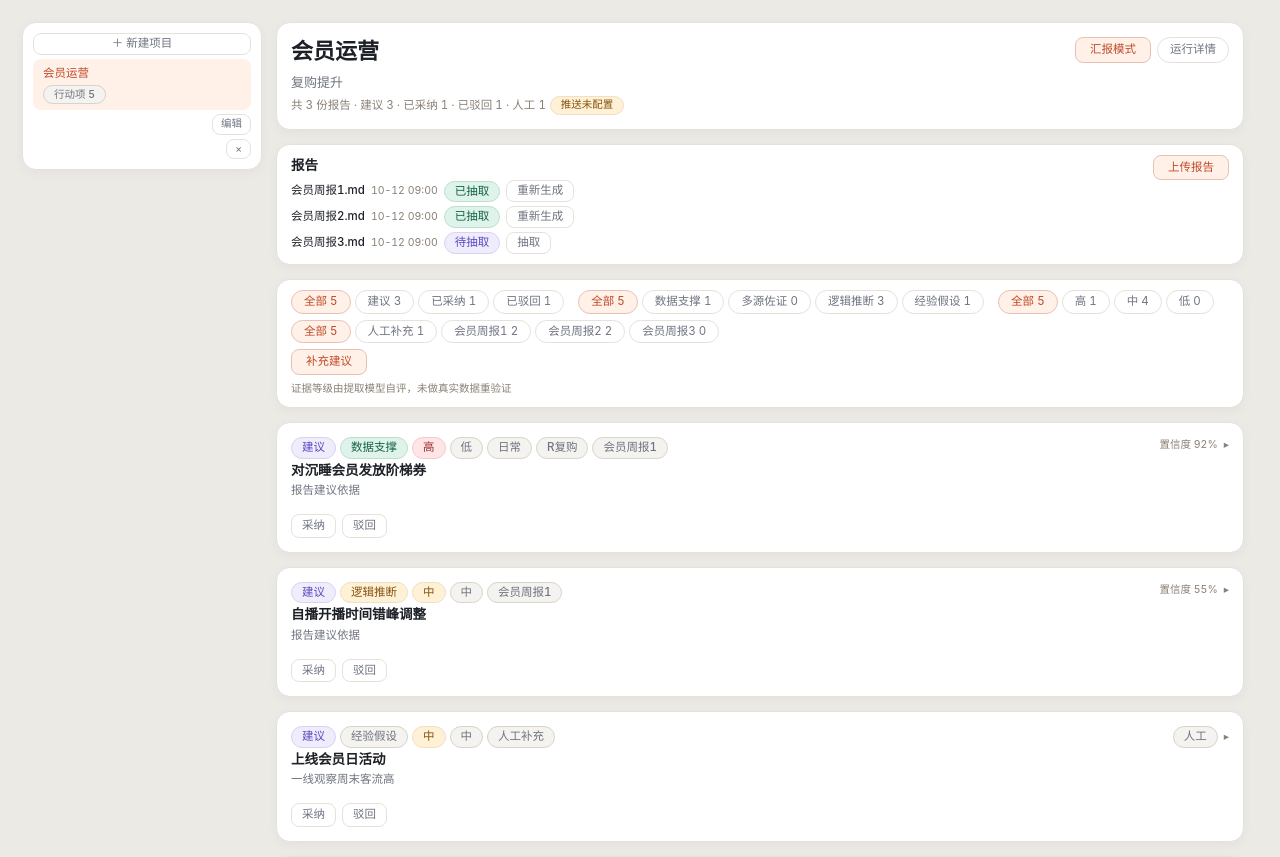
Test case: 采纳：乐观更新 + PATCH via=board + 留痕
The width and height of the screenshot is (1280, 857).
Click the 1st button "采纳" at (314, 526), box [291,514,336,538]
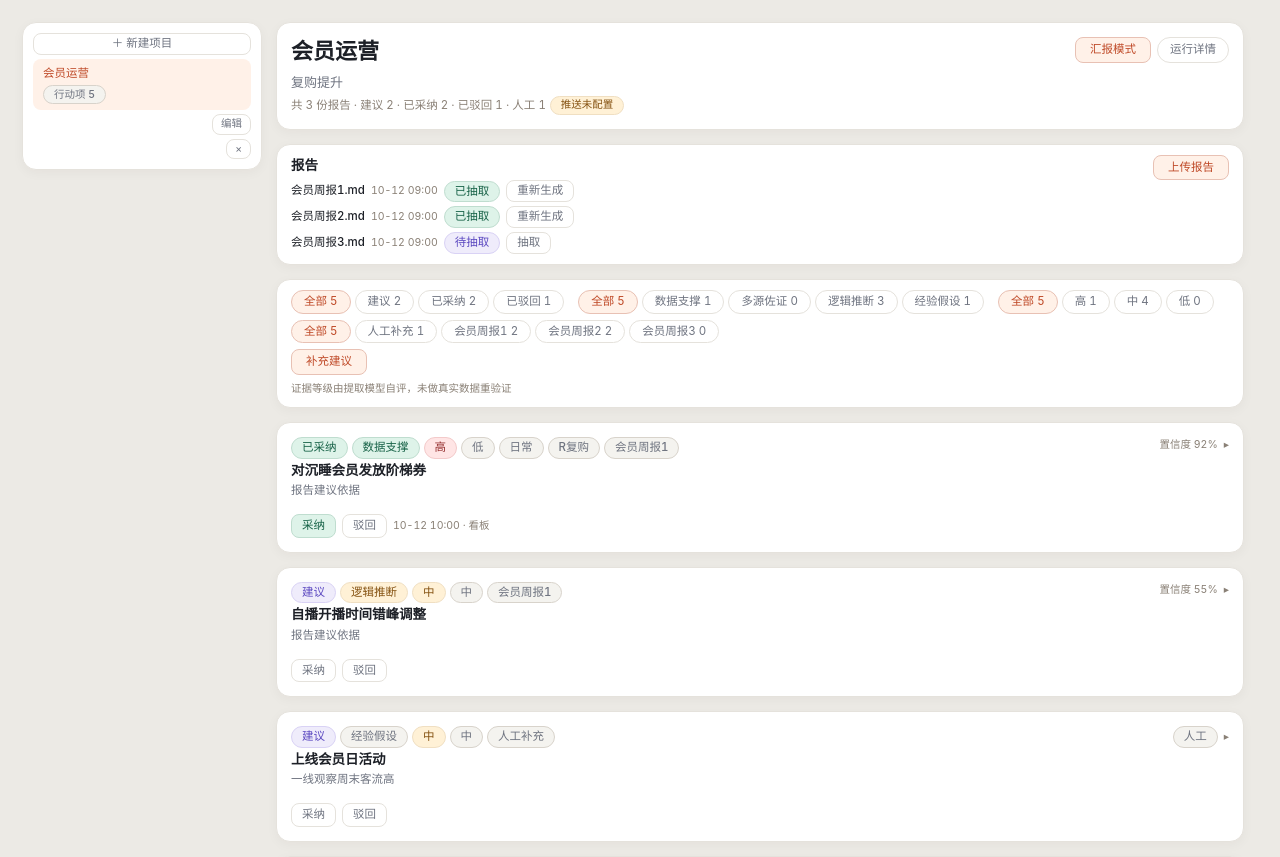
Expected: the text "已采纳" is shown, [291,438,348,459]
Expected: the text "10-12 10:00 · 看板" is shown, [393,518,490,534]
